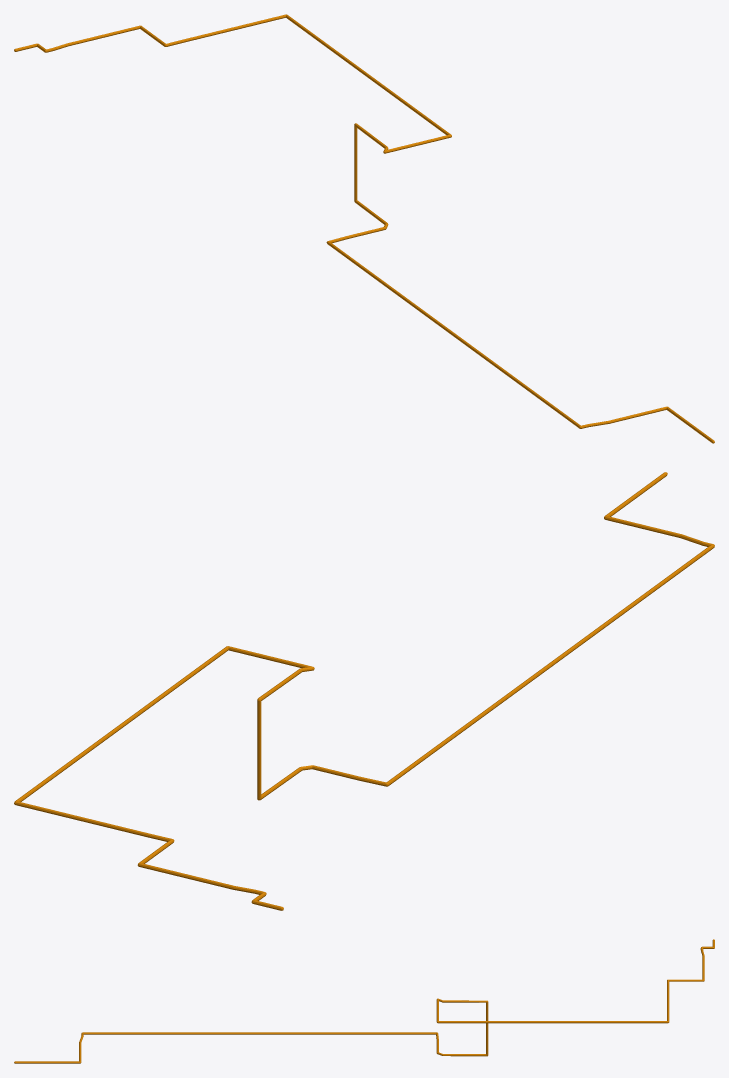
3 renders of one model, top to bottom at view 1: azimuth 30°, elevation 25°; view 2: azimuth 150°, elevation 25°; view 3: azimuth 270°, elevation 25°, orthographic. The views are drawn at different scales.
Size of the model in its own units: 1655 by 520 by 5932.
